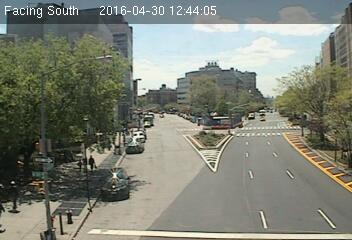neg: (60, 208, 75, 227), (55, 142, 67, 158), (104, 136, 115, 149)
pos: (2, 178, 27, 212), (82, 152, 97, 172), (72, 158, 83, 173)
